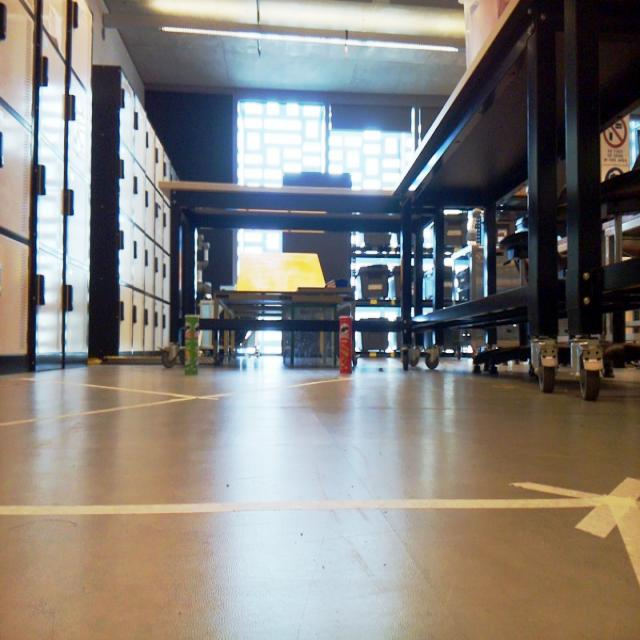greenpringles: (180, 304, 212, 376)
redpringles: (336, 314, 364, 382)
